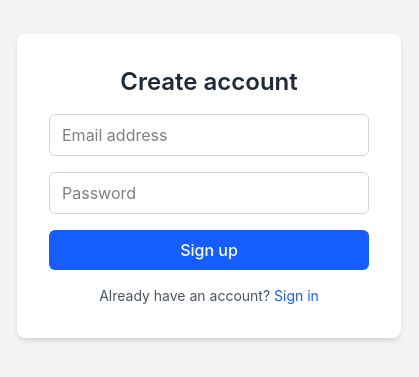
Scenario: RegisterPage › shows an error message when registration fails
Type "test@example.com" into the field with placeholder "Email address" at point(209, 135), box [49, 114, 369, 156]
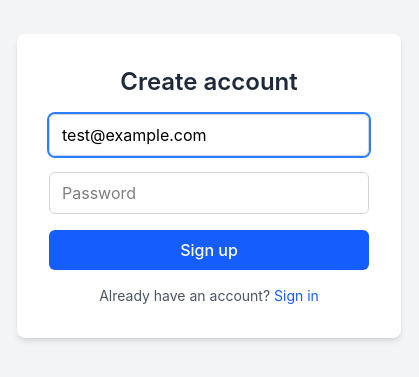
Type "password123" into the password field with placeholder "Password" at point(209, 193), box [49, 172, 369, 214]
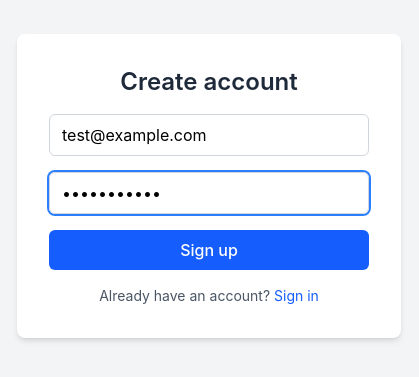
Click the button "Sign up" at point(209, 250), box [49, 230, 369, 270]
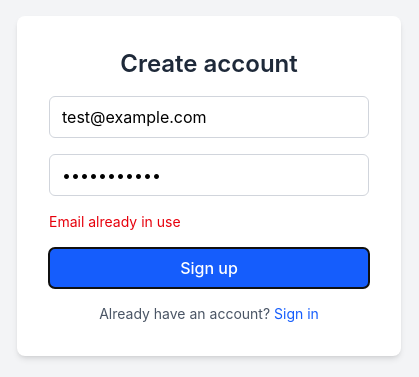
expect the text "Email already in use" is shown: met, box [49, 213, 181, 230]
